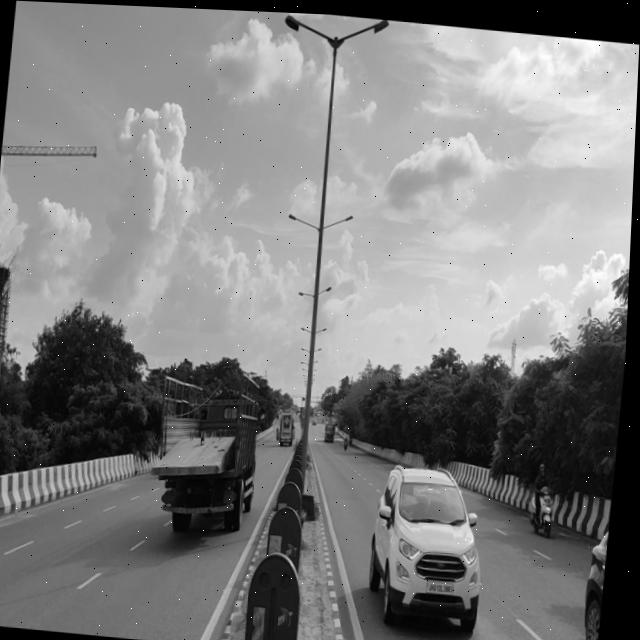bike: (532, 482, 563, 531)
car: (364, 452, 496, 640), (581, 503, 615, 640)
truck: (151, 364, 271, 536)
